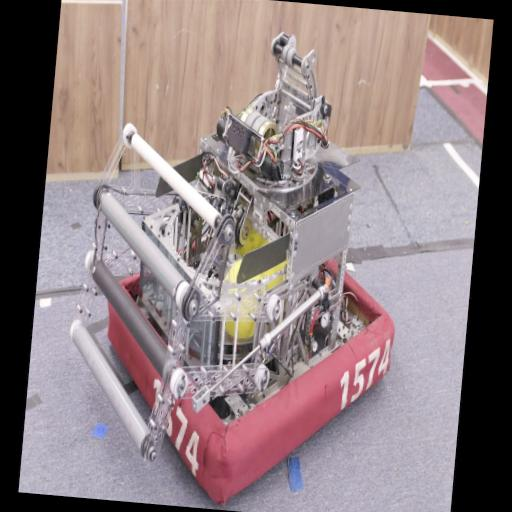robot: (54, 12, 420, 512)
